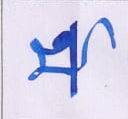i_matra: (95, 18, 119, 50)
